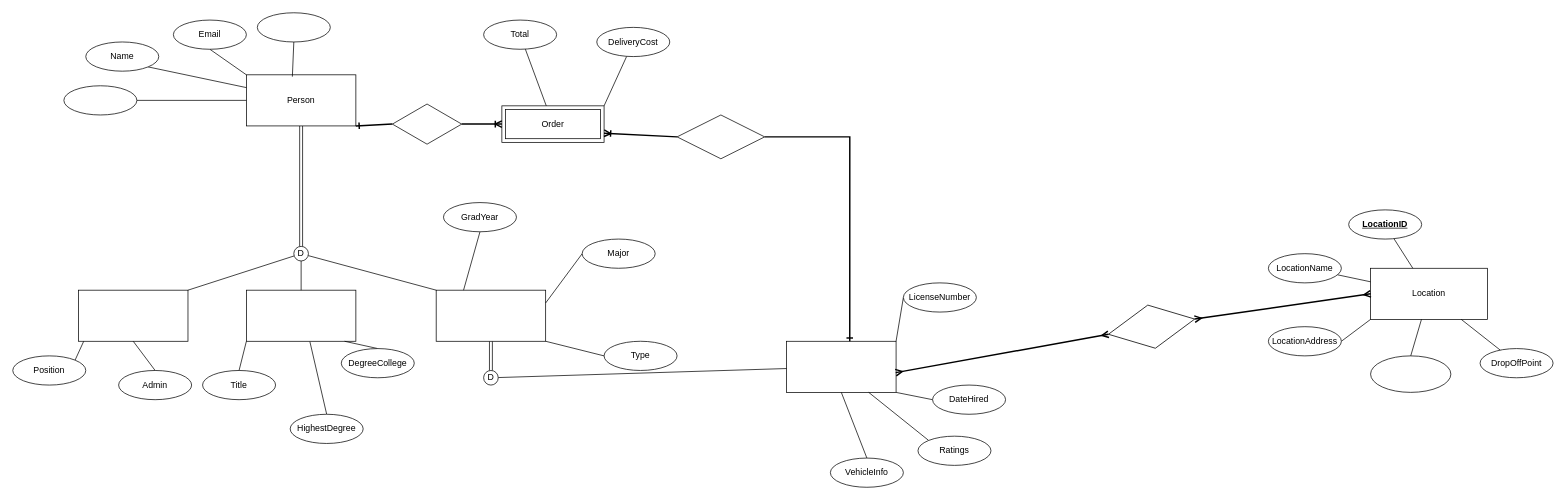
Some shapes in this 1566 by 500 pixel diagram are drawn without their labels. Each missing label, with the centre of its shape:
Cell: pixel 293 27
Creates: pixel 427 123
Delivers: pixel 1151 326
Driver: pixel 841 366
Faculty: pixel 301 315
Latitude_Longitude: pixel 1410 373
PersonID: pixel 100 100
Receives: pixel 720 136
Staff: pixel 133 315
Student: pixel 490 315
